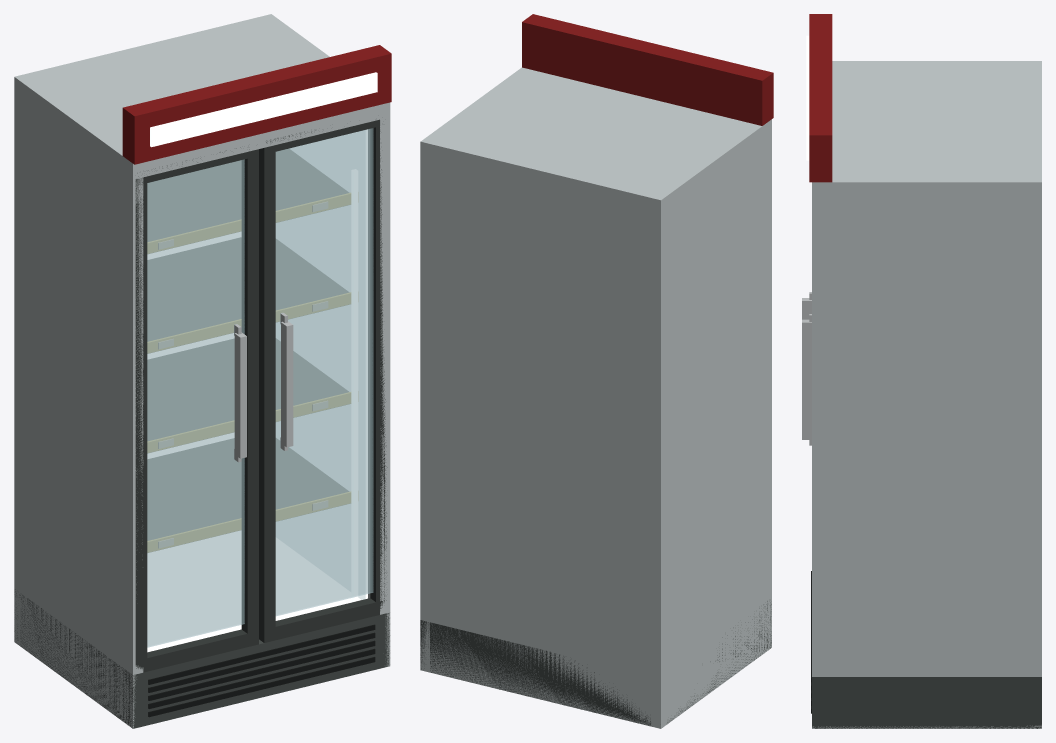
3 views of the same model, side by side, from view 1: azimuth 30°, elevation 25°; view 2: azimuth 150°, elevation 25°; view 3: azimuth 270°, elevation 25° (orthographic). The views are drawn at different scales.
Visible parts, largest first — view 1: tu_mat; view 2: tu_mat; view 3: tu_mat.
Part boxes in pixels (x1,y1,x2,y2): tu_mat: [14, 14, 391, 728]; tu_mat: [420, 14, 773, 728]; tu_mat: [802, 14, 1041, 728].
Size of the model in its own units: 1 by 2.28 by 0.835.
